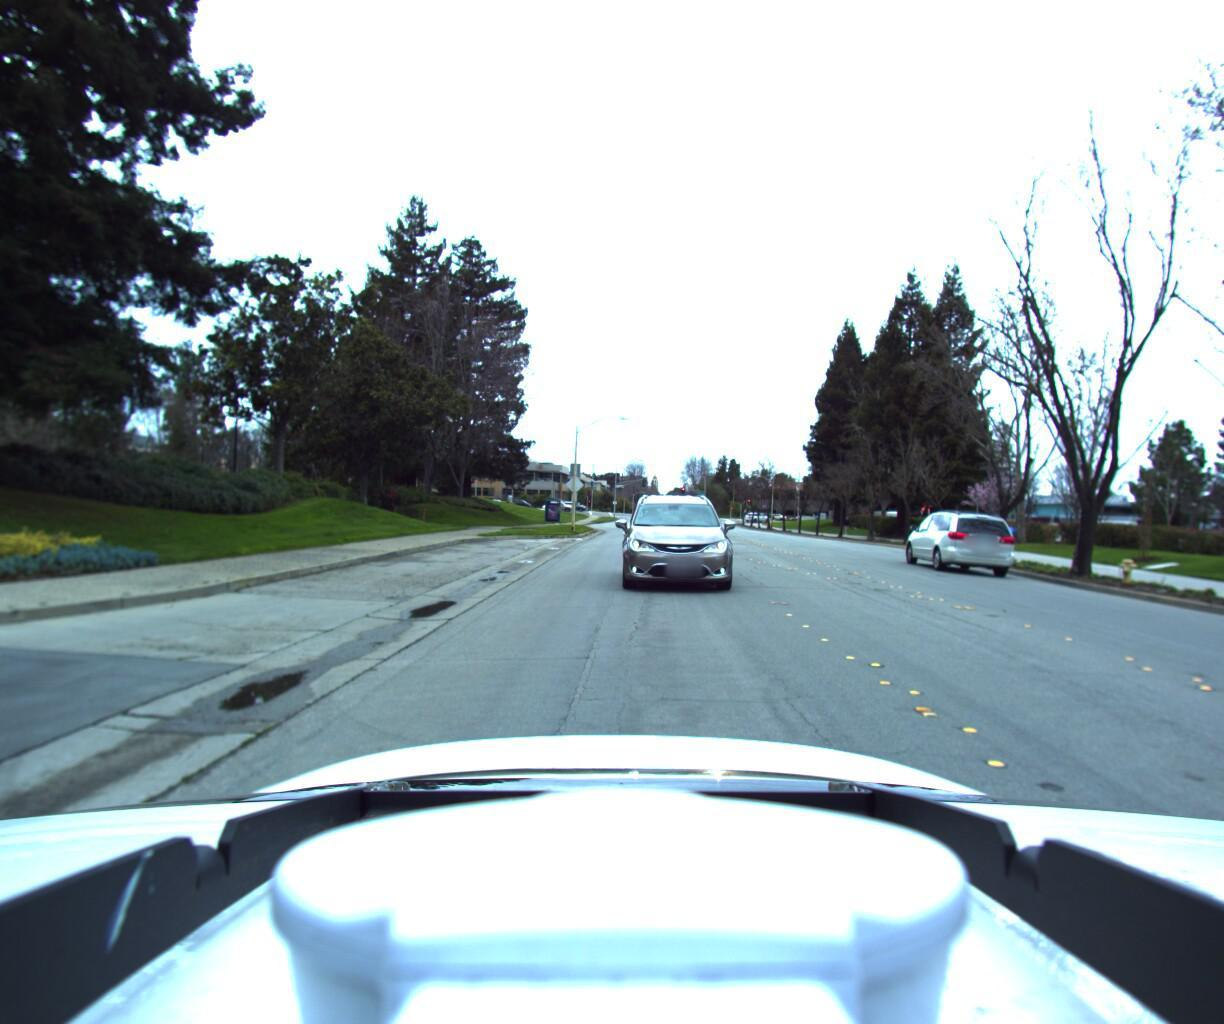car: (618, 486, 734, 591), (890, 507, 1006, 573)
